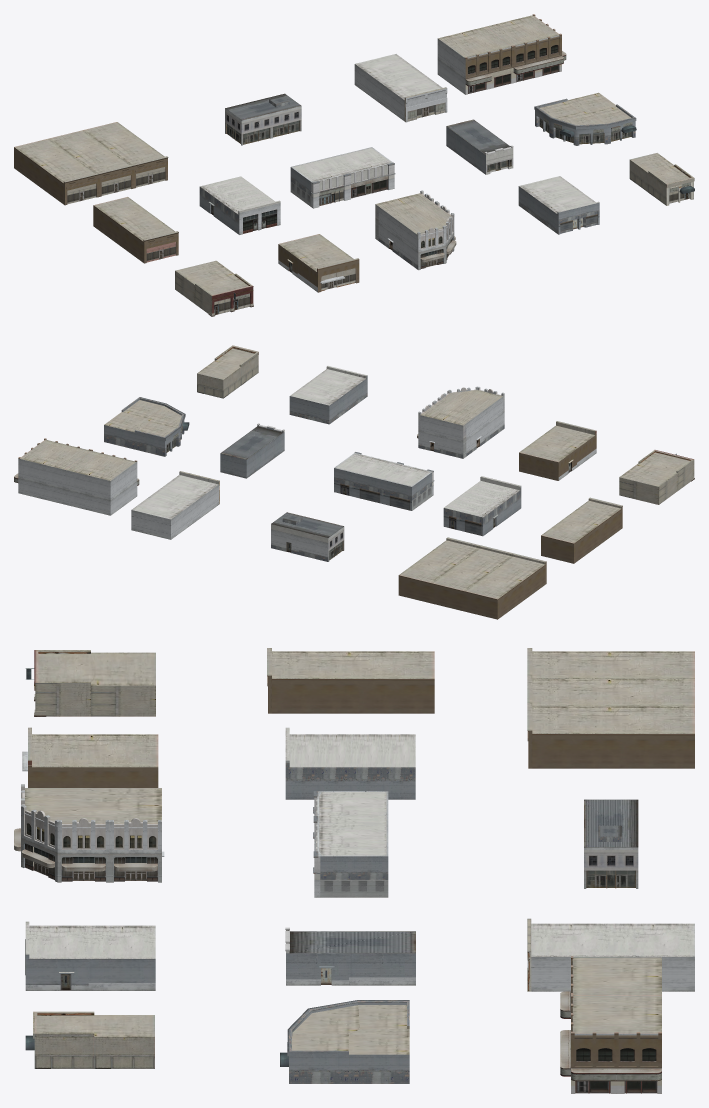
File: midcity.glb
The picture shows the model from 3 angles, top to bottom: view 1: azimuth 30°, elevation 25°; view 2: azimuth 150°, elevation 25°; view 3: azimuth 270°, elevation 25°; orthographic projection. The views are drawn at different scales.
Parts seen in each view (by area): view 1: MidCity_Commercial_5_B_Midcity_Facade_FLR_1_0, MidCity_Commercial_14_Midcity_Facade_FLR_1_0, MidCity_Commercial_6_Midcity_Facade_FLR_2_0, MidCity_Commercial_1_Midcity_Facade_FLR_2_0, MidCity_Commercial_7_Midcity_Facade_FLR_2_0, MidCity_Commercial_14_Midcity_Walls_FLR_1_0, MidCity_Commercial_11_Midcity_Facade_FLR_1_0, MidCity_Commercial_4_Midcity_Facade_FLR_2_0, MidCity_Commercial_2_Midcity_Facade_FLR_2_0, MidCity_Commercial_8_Midcity_Facade_FLR_2_0, MidCity_Commercial_15_Midcity_Facade_FLR_2_0, MidCity_Commercial_8_Midcity_Facade_FLR_1_0 (+11 smaller); view 2: MidCity_Commercial_5_B_Midcity_Facade_FLR_1_0, MidCity_Commercial_14_Midcity_Walls_FLR_1_0, MidCity_Commercial_1_Midcity_Facade_FLR_2_0, MidCity_Commercial_6_Midcity_Facade_FLR_2_0, MidCity_Commercial_8_Midcity_Facade_FLR_2_0, MidCity_Commercial_2_Midcity_Facade_FLR_2_0, MidCity_Commercial_5_B_Midcity_Walls_FLR_1_0, MidCity_Commercial_7_Midcity_Facade_FLR_2_0, MidCity_Commercial_11_Midcity_Facade_FLR_1_0, MidCity_Commercial_4_Midcity_Facade_FLR_2_0, MidCity_Commercial_14_Midcity_Facade_FLR_1_0, MidCity_Commercial_15_Midcity_Facade_FLR_2_0 (+8 smaller); view 3: MidCity_Commercial_5_B_Midcity_Facade_FLR_1_0, MidCity_Commercial_14_Midcity_Facade_FLR_1_0, MidCity_Commercial_7_Midcity_Facade_FLR_2_0, MidCity_Commercial_8_Midcity_Facade_FLR_1_0, MidCity_Commercial_6_Midcity_Facade_FLR_2_0, MidCity_Commercial_11_Midcity_Facade_FLR_1_0, MidCity_Commercial_2_Midcity_Facade_FLR_2_0, MidCity_Commercial_1_Midcity_Facade_FLR_2_0, MidCity_Commercial_15_Midcity_Facade_FLR_2_0, MidCity_Commercial_12_Midcity_Facade_FLR_1_0, MidCity_Commercial_5_B_Midcity_Walls_FLR_1_0, MidCity_Commercial_5_Midcity_Walls_FLR_1_0 (+8 smaller).
Boxes of the visible parts, bbox=[...] form: MidCity_Commercial_5_B_Midcity_Facade_FLR_1_0: bbox=[14, 122, 167, 204]; MidCity_Commercial_14_Midcity_Facade_FLR_1_0: bbox=[438, 15, 566, 93]; MidCity_Commercial_6_Midcity_Facade_FLR_2_0: bbox=[354, 54, 447, 122]; MidCity_Commercial_1_Midcity_Facade_FLR_2_0: bbox=[290, 147, 395, 208]; MidCity_Commercial_7_Midcity_Facade_FLR_2_0: bbox=[518, 176, 599, 234]; MidCity_Commercial_14_Midcity_Walls_FLR_1_0: bbox=[437, 14, 561, 94]; MidCity_Commercial_11_Midcity_Facade_FLR_1_0: bbox=[175, 260, 253, 316]; MidCity_Commercial_4_Midcity_Facade_FLR_2_0: bbox=[225, 93, 301, 145]; MidCity_Commercial_2_Midcity_Facade_FLR_2_0: bbox=[199, 176, 280, 234]; MidCity_Commercial_8_Midcity_Facade_FLR_2_0: bbox=[375, 190, 454, 270]; MidCity_Commercial_15_Midcity_Facade_FLR_2_0: bbox=[446, 119, 513, 174]; MidCity_Commercial_8_Midcity_Facade_FLR_1_0: bbox=[375, 193, 456, 268]; MidCity_Commercial_5_B_Midcity_Facade_FLR_1_0: bbox=[399, 537, 546, 599]; MidCity_Commercial_14_Midcity_Walls_FLR_1_0: bbox=[18, 438, 137, 515]; MidCity_Commercial_1_Midcity_Facade_FLR_2_0: bbox=[334, 452, 434, 510]; MidCity_Commercial_6_Midcity_Facade_FLR_2_0: bbox=[131, 472, 218, 539]; MidCity_Commercial_8_Midcity_Facade_FLR_2_0: bbox=[418, 386, 504, 458]; MidCity_Commercial_2_Midcity_Facade_FLR_2_0: bbox=[443, 476, 521, 536]; MidCity_Commercial_5_B_Midcity_Walls_FLR_1_0: bbox=[398, 561, 546, 619]; MidCity_Commercial_7_Midcity_Facade_FLR_2_0: bbox=[289, 366, 367, 424]; MidCity_Commercial_11_Midcity_Facade_FLR_1_0: bbox=[619, 450, 694, 504]; MidCity_Commercial_4_Midcity_Facade_FLR_2_0: bbox=[271, 512, 344, 561]; MidCity_Commercial_14_Midcity_Facade_FLR_1_0: bbox=[14, 440, 139, 485]; MidCity_Commercial_15_Midcity_Facade_FLR_2_0: bbox=[220, 423, 284, 478]; MidCity_Commercial_5_B_Midcity_Facade_FLR_1_0: bbox=[527, 648, 694, 733]; MidCity_Commercial_14_Midcity_Facade_FLR_1_0: bbox=[560, 957, 661, 1093]; MidCity_Commercial_7_Midcity_Facade_FLR_2_0: bbox=[25, 921, 155, 990]; MidCity_Commercial_8_Midcity_Facade_FLR_1_0: bbox=[14, 788, 161, 881]; MidCity_Commercial_6_Midcity_Facade_FLR_2_0: bbox=[527, 923, 694, 991]; MidCity_Commercial_11_Midcity_Facade_FLR_1_0: bbox=[25, 650, 155, 716]; MidCity_Commercial_2_Midcity_Facade_FLR_2_0: bbox=[285, 727, 415, 799]; MidCity_Commercial_1_Midcity_Facade_FLR_2_0: bbox=[313, 791, 388, 897]; MidCity_Commercial_15_Midcity_Facade_FLR_2_0: bbox=[285, 927, 415, 985]; MidCity_Commercial_12_Midcity_Facade_FLR_1_0: bbox=[25, 1011, 154, 1068]; MidCity_Commercial_5_B_Midcity_Walls_FLR_1_0: bbox=[527, 730, 694, 768]; MidCity_Commercial_5_Midcity_Walls_FLR_1_0: bbox=[267, 675, 434, 713].
Size of the model in its own units: 151 by 10.75 by 105.
Materials: 3 (3 with a texture image).
